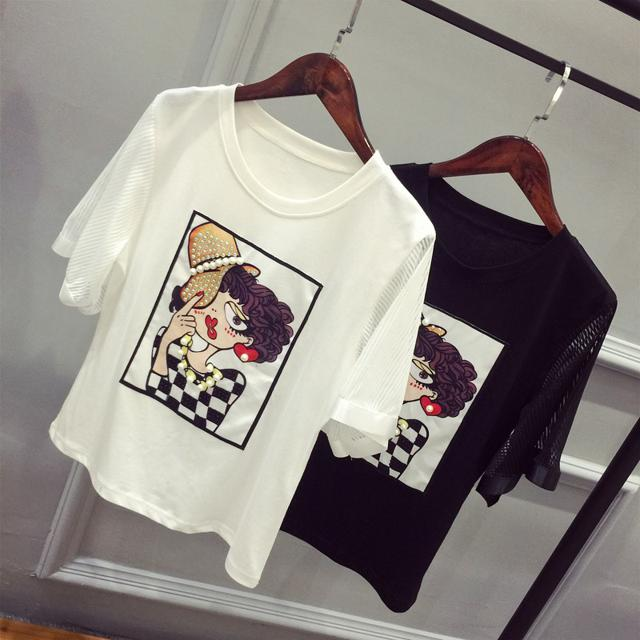Tops: (46, 86, 427, 554), (282, 143, 612, 595)
